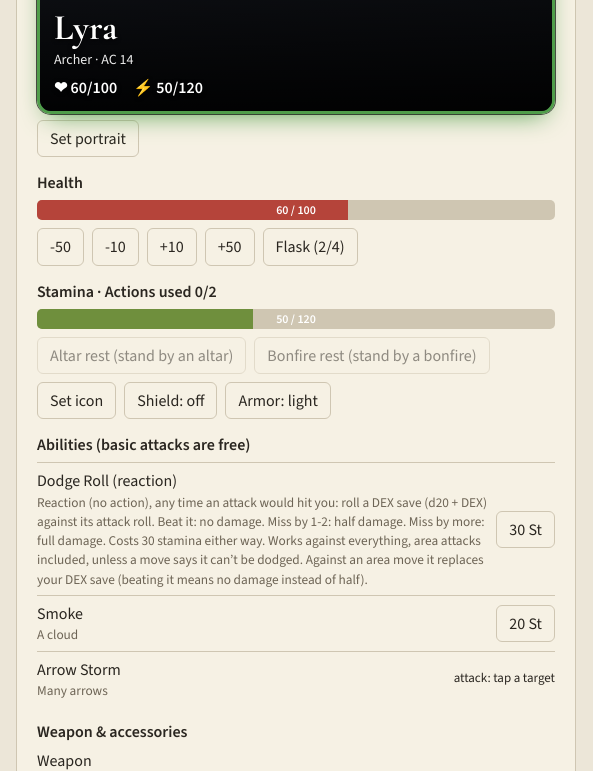
Scenario: <SheetScreen /> for a player › shield and armor
The width and height of the screenshot is (593, 771).
(page scrolled)
What coordinates should you click on to do the following:
click the button "Shield: off"
I would click on:
 (171, 400)
Its box is [124,382,218,419].
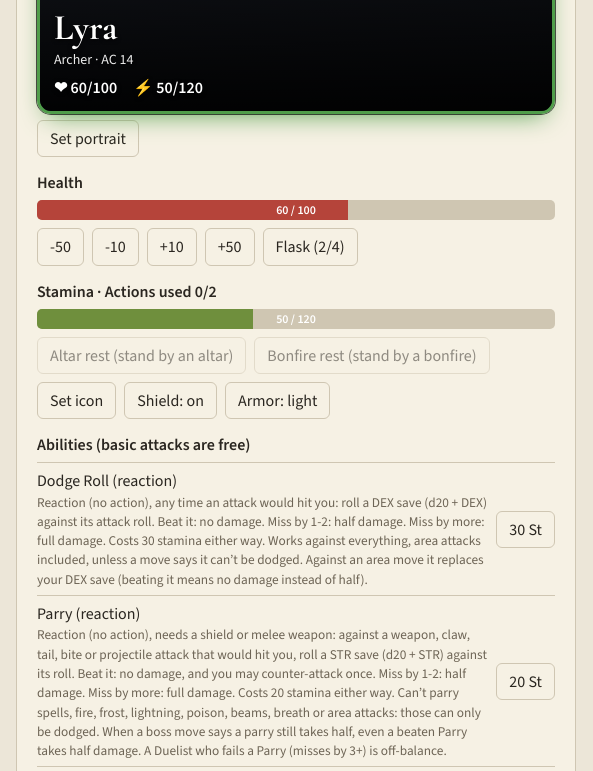
What coordinates should you click on to do the following:
click the button "Shield: on"
I would click on:
 (171, 400)
Its box is [124,382,217,419].
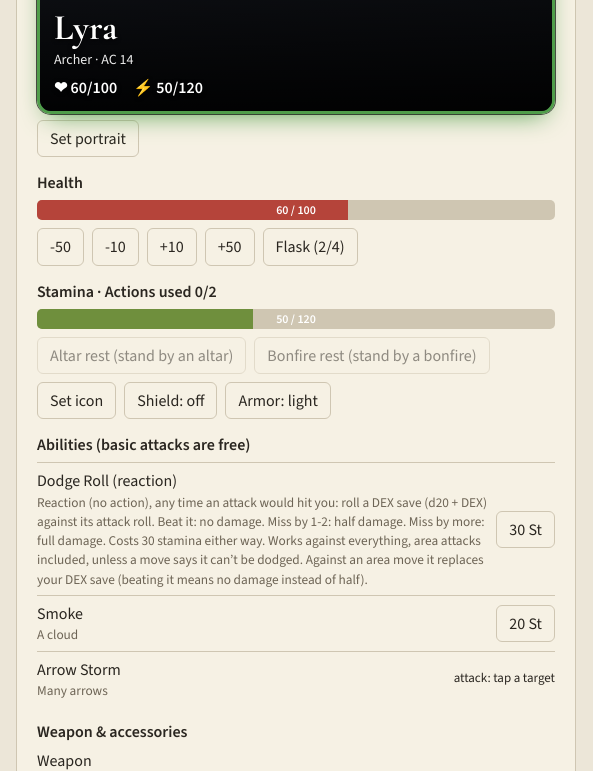
What coordinates should you click on to do the following:
click the button "Armor: light"
I would click on:
 (278, 400)
Its box is [225,382,331,419].
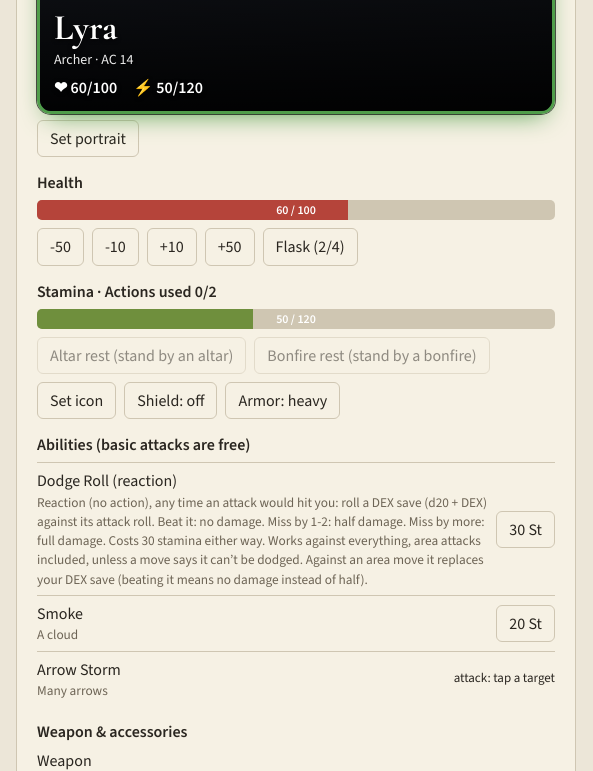
Now the button "Armor: heavy" is shown, box [225,382,340,419]
